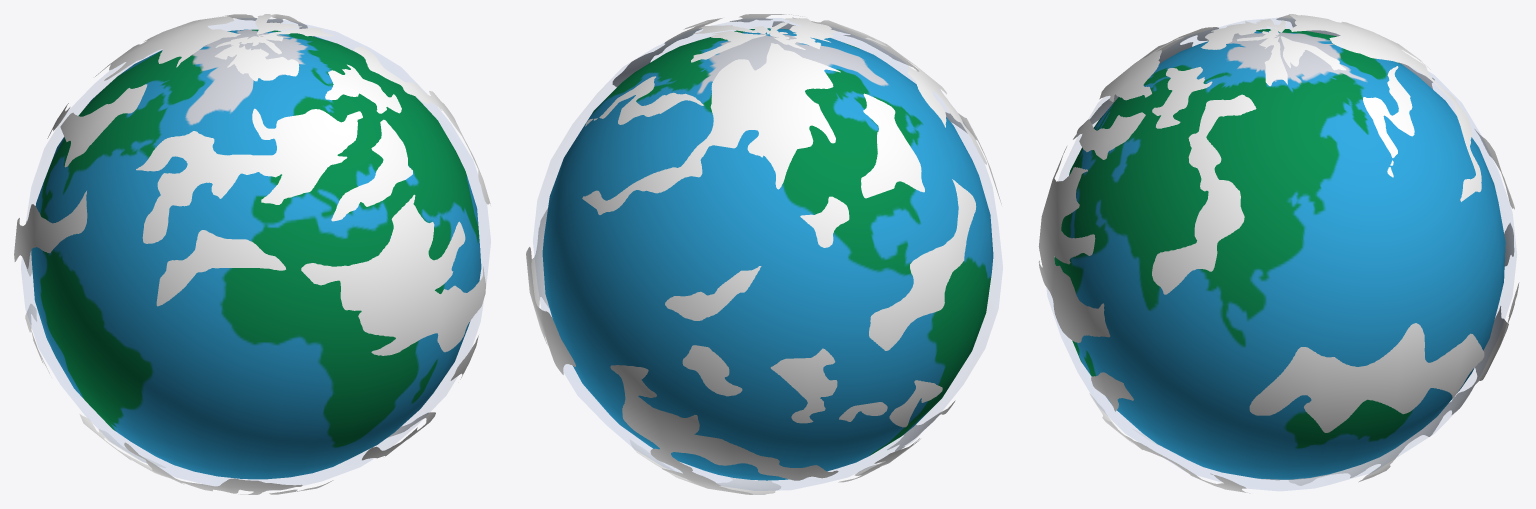
Rendered from earth.glb.
The picture shows the model from 3 angles, left to right: view 1: azimuth 30°, elevation 25°; view 2: azimuth 150°, elevation 25°; view 3: azimuth 270°, elevation 25°; orthographic projection.
Visible parts, largest first — view 1: Earth, Clouds; view 2: Earth, Clouds; view 3: Earth, Clouds.
Boxes of the visible parts, x1,y1,x2,y2 form: Earth: [31, 29, 481, 479]; Clouds: [14, 14, 490, 494]; Earth: [542, 28, 993, 480]; Clouds: [526, 14, 1001, 494]; Earth: [1054, 29, 1505, 480]; Clouds: [1038, 14, 1519, 493].
Bounding box in the file's own units: 11.3 × 11.47 × 11.47.
Materials: 3 (2 with a texture image).
